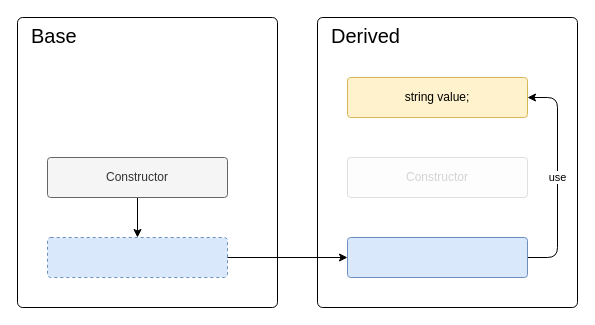
Image size: 595x325. Some labels were removed from this diagram. The shapes that lost their labels are listed below. From the top down, each one's centre as x and y in pixels, then its label:
At (x=137, y=257): "virtual CalculateLength()".
At (x=437, y=257): "override CalculateLength()".
